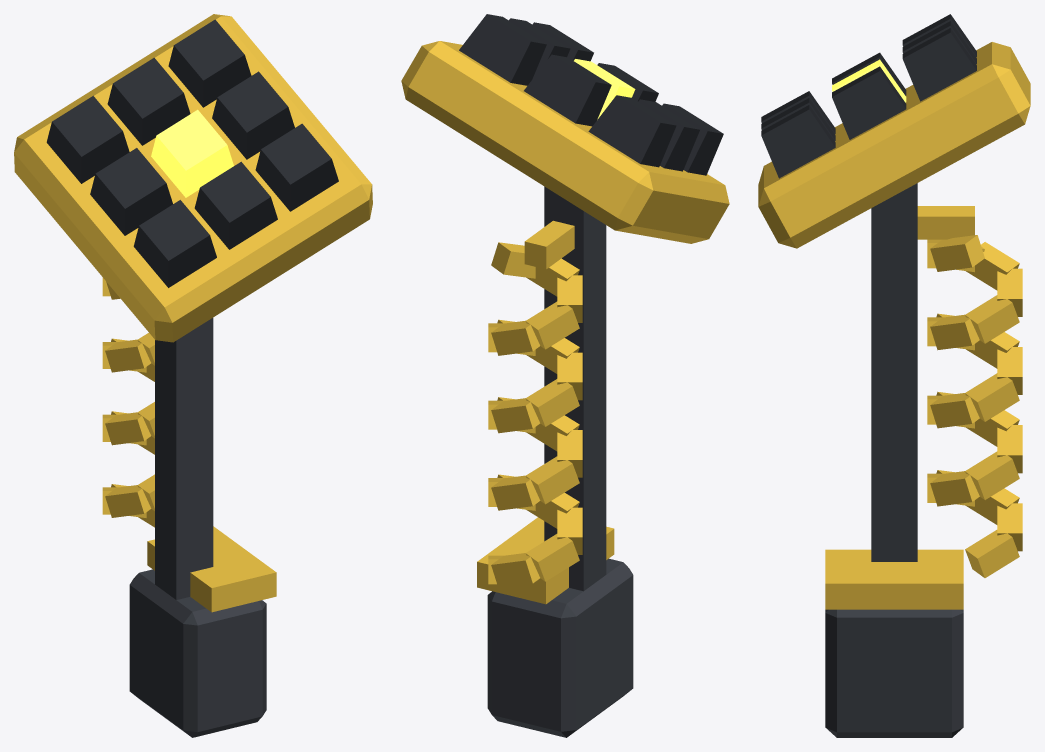
File: keyboardsmash_m2_2.glb
The picture shows the model from 3 angles, left to right: view 1: azimuth 30°, elevation 25°; view 2: azimuth 150°, elevation 25°; view 3: azimuth 270°, elevation 25°; orthographic projection. The views are drawn at different scales.
Visible parts, largest first — view 1: keyboardsmash_m2_2_mesh; view 2: keyboardsmash_m2_2_mesh; view 3: keyboardsmash_m2_2_mesh.
Part boxes in pixels (left/top/right/bottom): keyboardsmash_m2_2_mesh: left=14, top=14, right=372, bottom=737; keyboardsmash_m2_2_mesh: left=401, top=14, right=729, bottom=737; keyboardsmash_m2_2_mesh: left=758, top=14, right=1030, bottom=737.
Size of the model in its own units: 0.2828 by 0.6821 by 0.2367.
